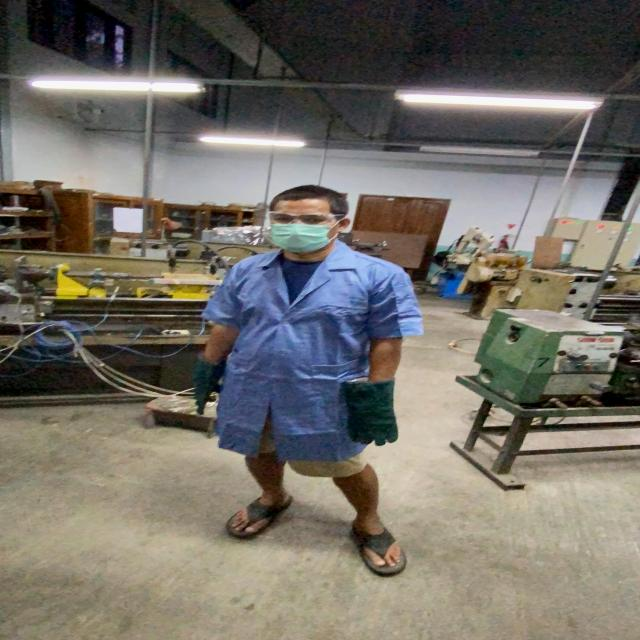face_mask: (261, 207, 333, 251)
glasses: (263, 209, 350, 227)
hand_glove: (339, 402, 407, 451), (183, 373, 223, 416)
head_nohelmet: (265, 184, 344, 209)
person: (178, 179, 432, 584)
